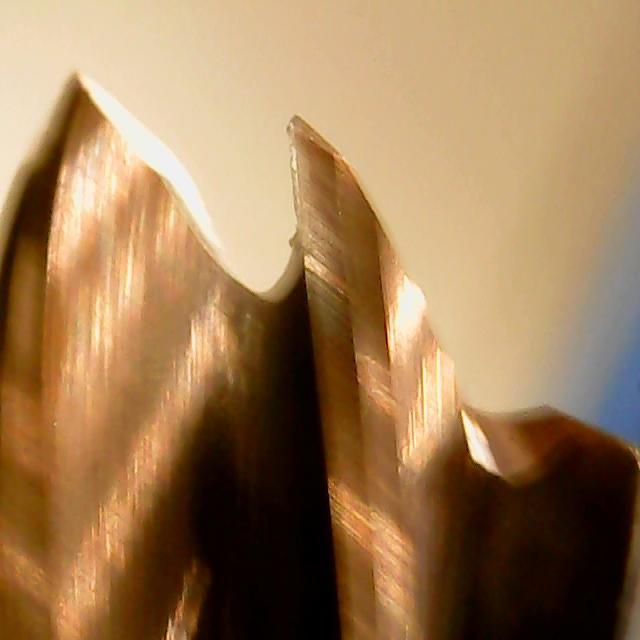Tool-wear-class-1: (284, 112, 412, 368)
